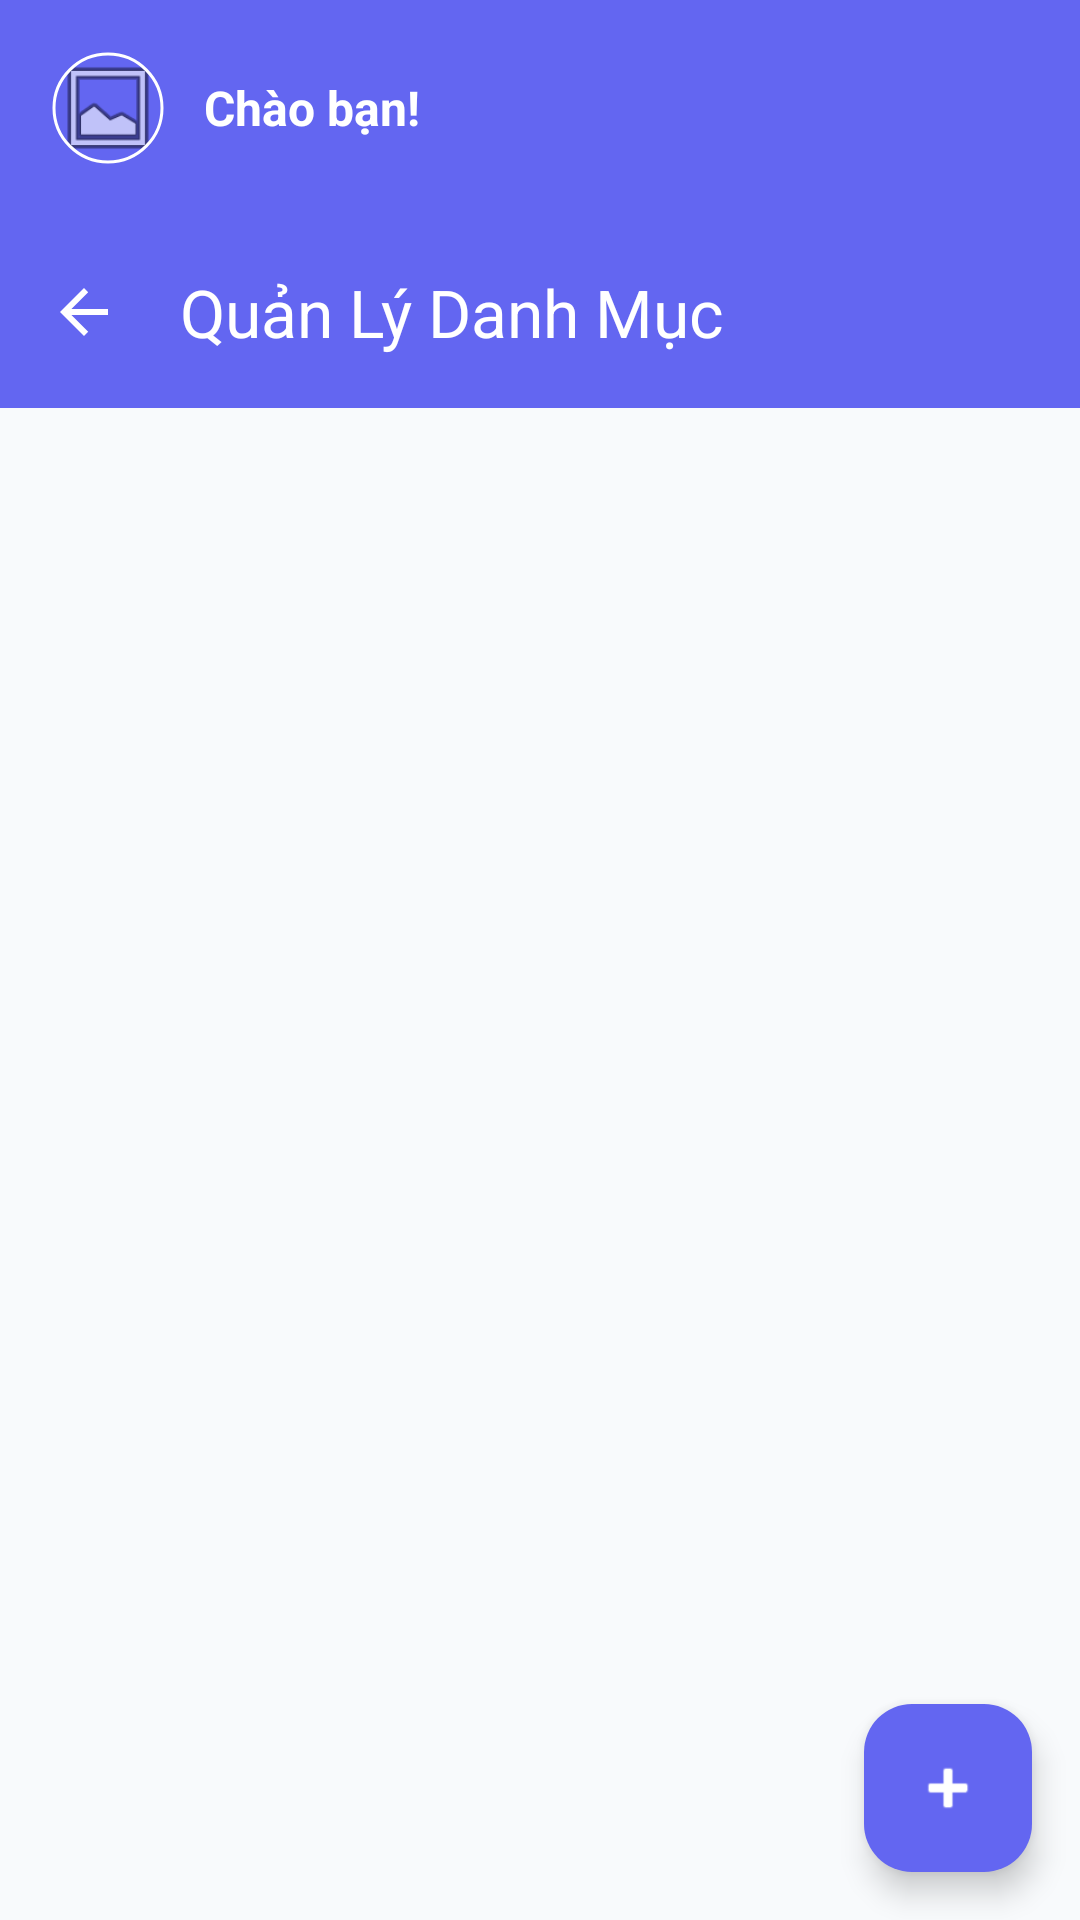

Screen size 1080px×1920px. Icon name, then its center in pixels as (x=x, y=y):
add: (x=948, y=1788)
gallery: (x=108, y=108)
